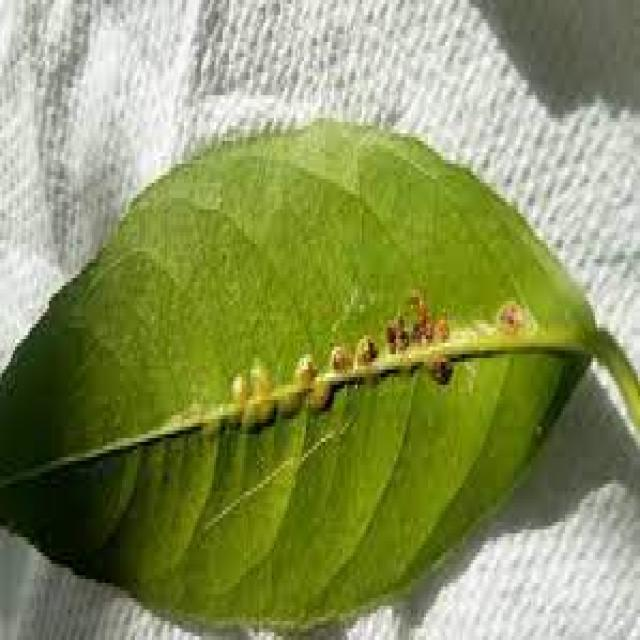scale_insect: (298, 374, 336, 416), (347, 324, 381, 369), (492, 286, 524, 331), (287, 339, 317, 381), (274, 381, 302, 419), (251, 388, 276, 426), (246, 354, 272, 389), (323, 332, 347, 369), (225, 362, 246, 400), (220, 400, 244, 430), (237, 400, 257, 434)
